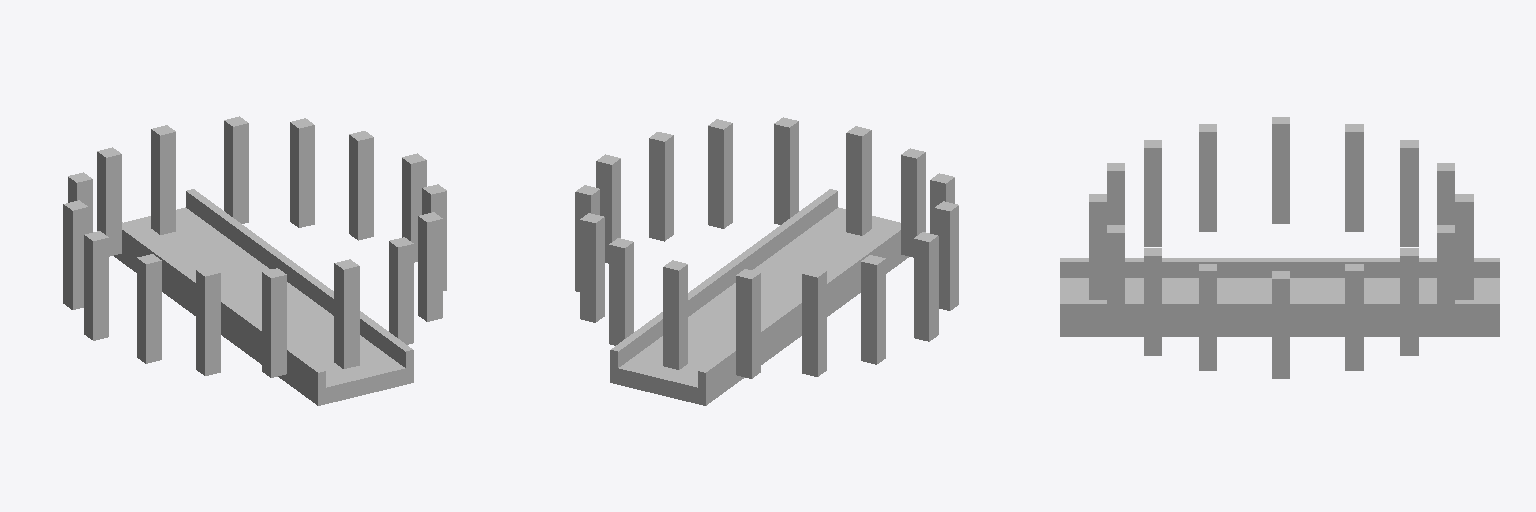
File: H - Tree Circle.obj
The picture shows the model from 3 angles: view 1: azimuth 30°, elevation 25°; view 2: azimuth 150°, elevation 25°; view 3: azimuth 270°, elevation 25°; orthographic projection.
Parts seen in each view (by area): view 1: polySurface3, polySurface2; view 2: polySurface3, polySurface2; view 3: polySurface3, polySurface2.
Part boxes in pixels (left/top/right/bottom): polySurface3: left=63, top=116, right=446, bottom=377; polySurface2: left=114, top=189, right=413, bottom=405; polySurface3: left=575, top=117, right=958, bottom=378; polySurface2: left=610, top=189, right=908, bottom=405; polySurface3: left=1089, top=117, right=1473, bottom=378; polySurface2: left=1060, top=258, right=1499, bottom=336.
Bounding box in the file's own units: 210 × 70 × 240.